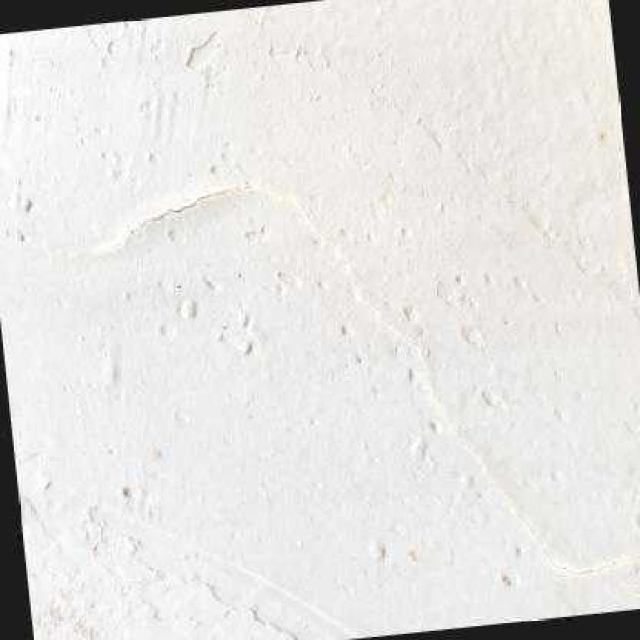D00: (124, 175, 634, 578)
